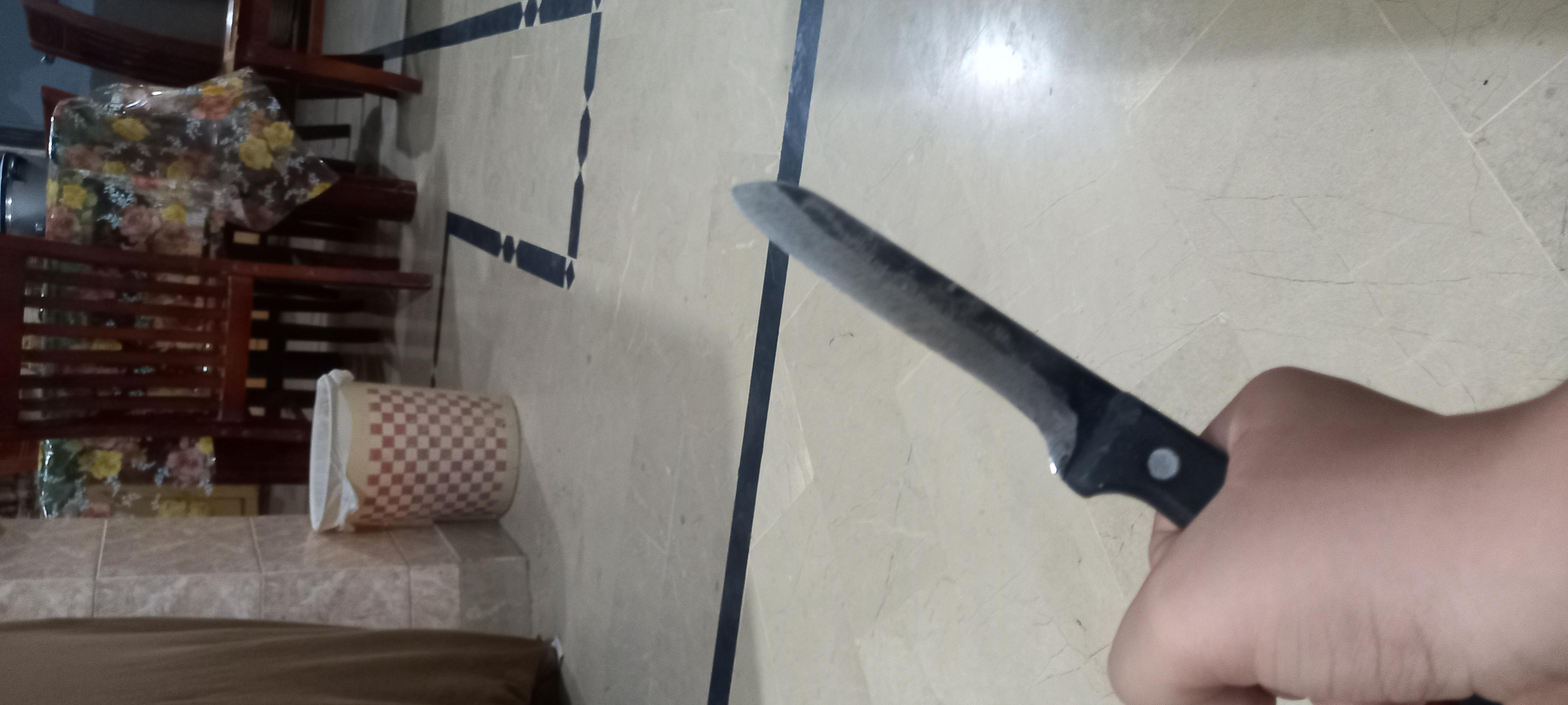knives: (375, 327, 1231, 554)
